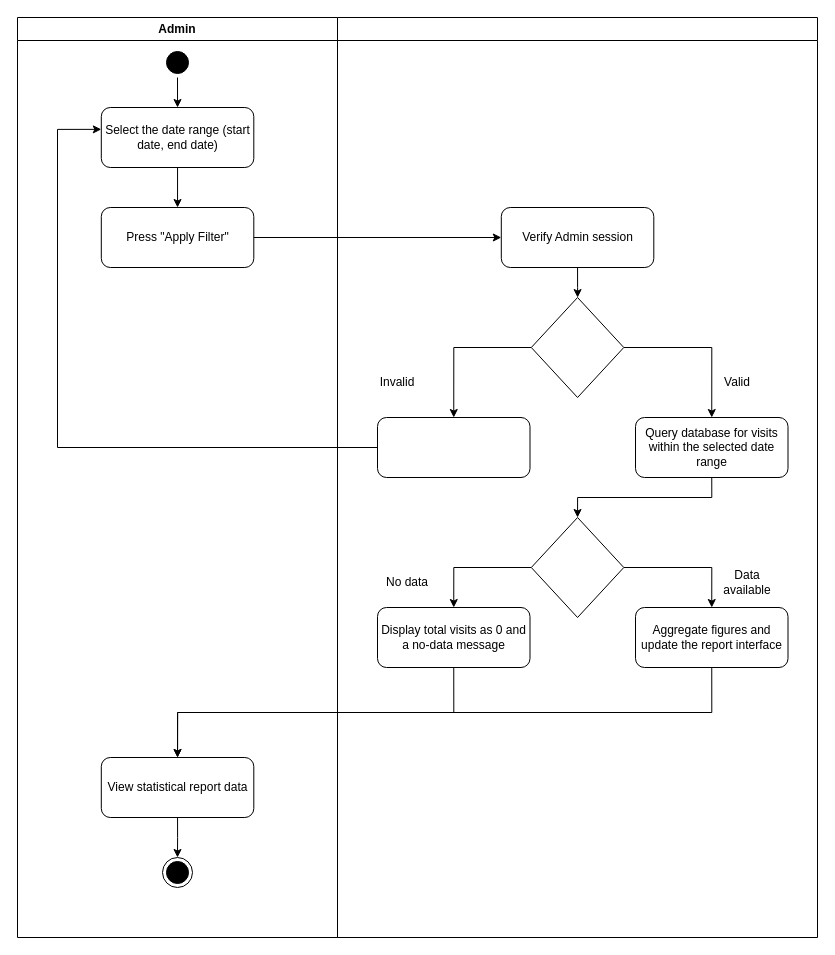
This 835x955 diagram has some shape labels left out. Each missing label, with the box of its shape:
Display invalid date range error message: (376, 416, 530, 478)
System: (336, 16, 818, 938)
Valid date range?: (530, 296, 624, 398)
Visit data available?: (530, 516, 624, 618)
